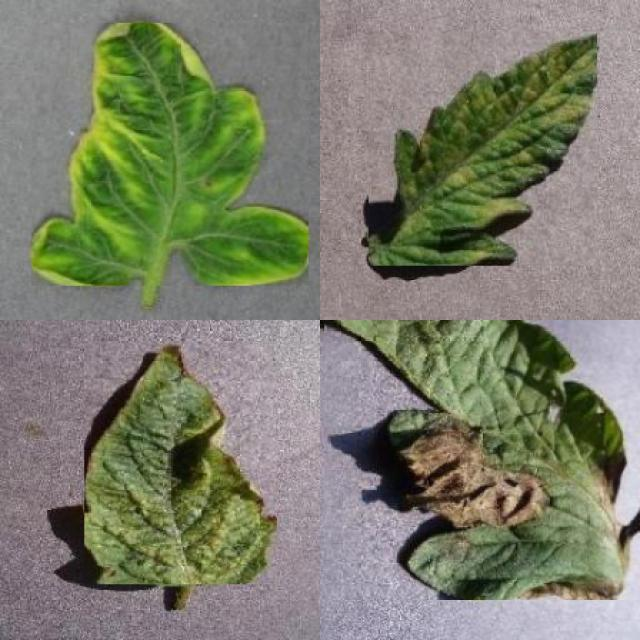Late Blight: (324, 320, 640, 600)
Leaf Mold: (368, 31, 598, 266)
Spider Mites: (84, 342, 277, 584)
Yellow Leaf Curl Virus: (32, 23, 309, 286)
